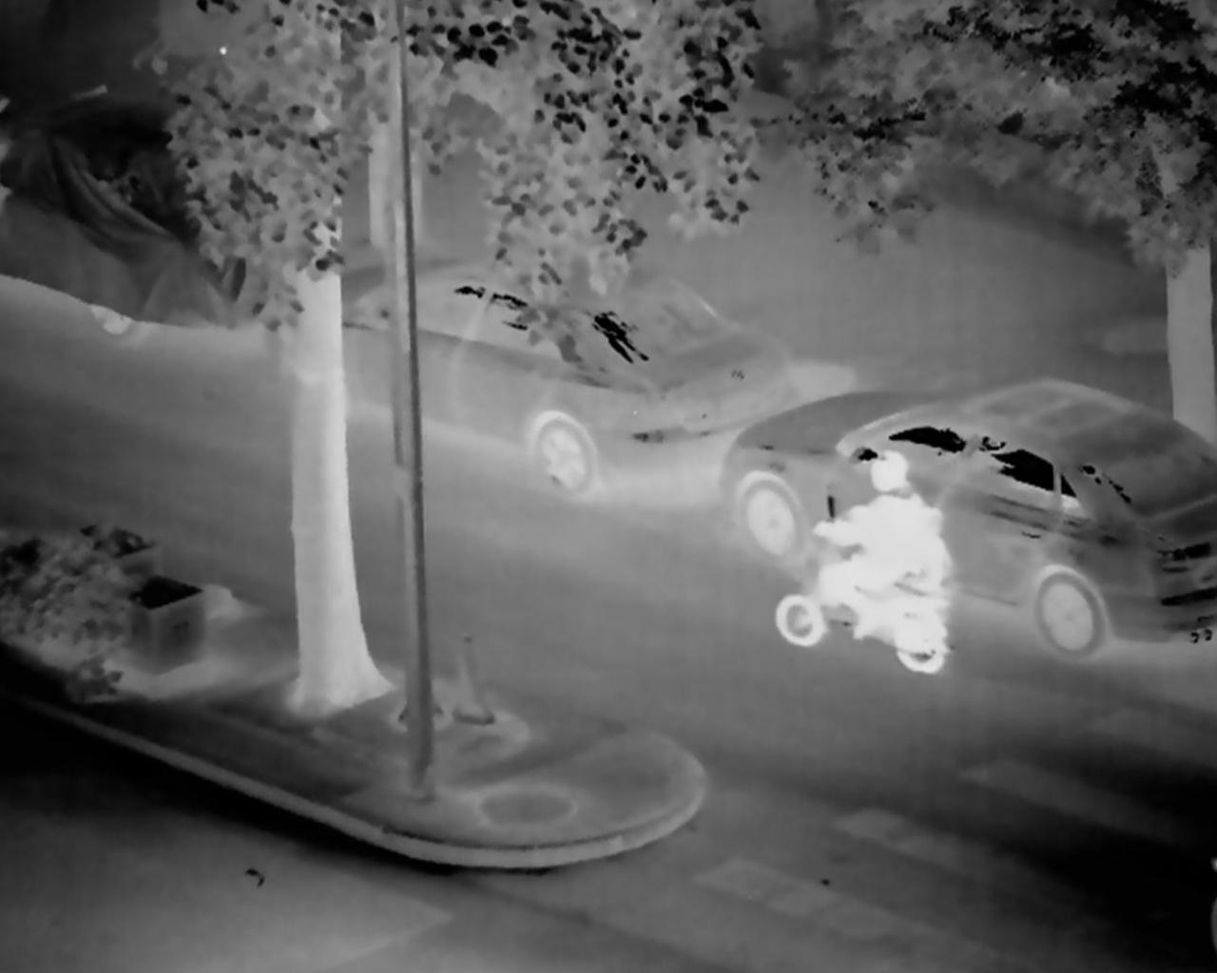person: (812, 451, 919, 627)
